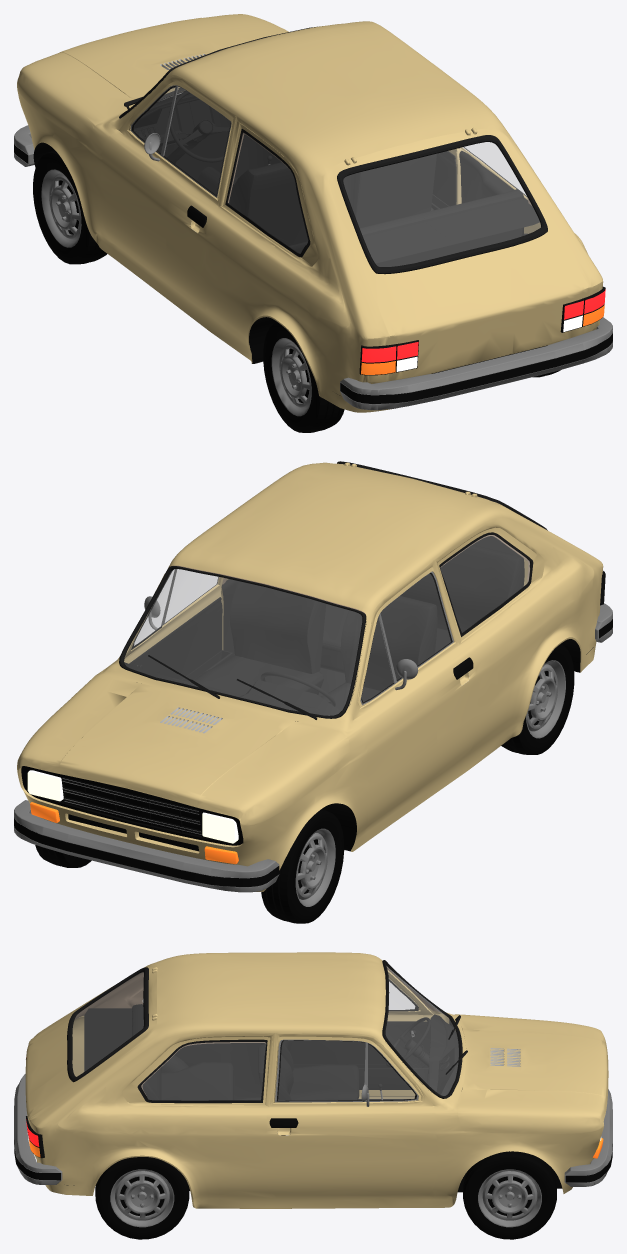
Rendered from fiat_147.glb.
3 renders of one model, top to bottom at view 1: azimuth 30°, elevation 25°; view 2: azimuth 150°, elevation 25°; view 3: azimuth 270°, elevation 25°, orthographic. The views are drawn at different scales.
Visible parts, largest first — view 1: Object_9, Object_4, Object_36, Object_7, Object_33, Object_6, Object_15, Object_18, Object_16; view 2: Object_9, Object_4, Object_36, Object_7, Object_6, Object_33, Object_17, Object_16, Object_24; view 3: Object_9, Object_4, Object_36, Object_7, Object_33, Object_78, Object_6, Object_24.
Boxes of the visible parts, x1,y1,x2,y2 form: Object_9: (17, 14, 603, 412); Object_4: (119, 26, 547, 395); Object_36: (134, 87, 540, 266); Object_7: (14, 85, 612, 416); Object_33: (33, 150, 560, 432); Object_6: (14, 142, 612, 408); Object_15: (361, 289, 605, 362); Object_18: (359, 286, 605, 375); Object_16: (361, 304, 604, 374); Object_9: (17, 462, 603, 892); Object_4: (119, 461, 593, 721); Object_36: (124, 535, 529, 715); Object_7: (14, 569, 612, 906); Object_6: (14, 619, 612, 886); Object_33: (35, 644, 574, 923); Object_17: (27, 770, 238, 843); Object_16: (30, 802, 238, 864); Object_24: (160, 677, 469, 733); Object_9: (25, 952, 608, 1208); Object_4: (66, 960, 467, 1185); Object_36: (72, 966, 458, 1100); Object_7: (14, 978, 612, 1227); Object_33: (95, 1151, 556, 1239); Object_78: (74, 967, 439, 1095); Object_6: (14, 1118, 612, 1192); Object_24: (286, 1048, 520, 1135).
Bounding box in the file's own units: 1.55 × 1.36 × 3.55.
